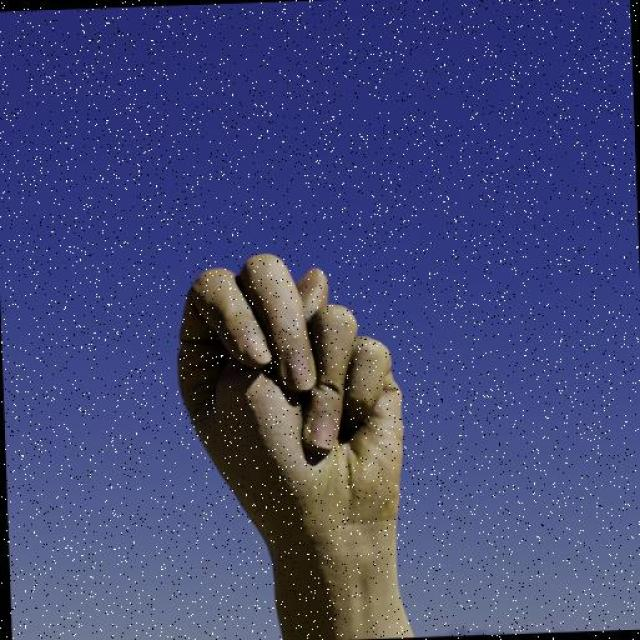N: (169, 243, 406, 529)
